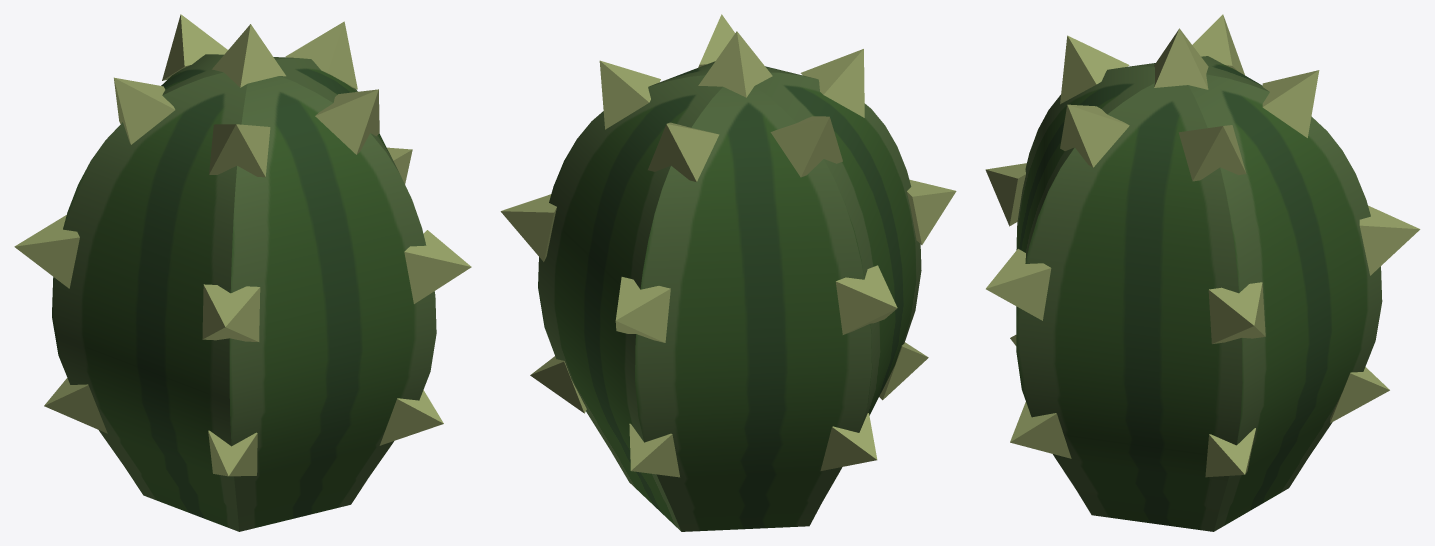
File: Cactussmall.fbx
3 renders of one model, left to right at view 1: azimuth 30°, elevation 25°; view 2: azimuth 150°, elevation 25°; view 3: azimuth 270°, elevation 25°, orthographic.
Parts seen in each view (by area): view 1: Sphere.001; view 2: Sphere.001; view 3: Sphere.001.
Part boxes in pixels (x1,y1,x2,y2): Sphere.001: (14, 14, 471, 531); Sphere.001: (500, 14, 956, 531); Sphere.001: (985, 14, 1420, 531).
Bounding box in the file's own units: 0.5641 × 0.6252 × 0.5365.
